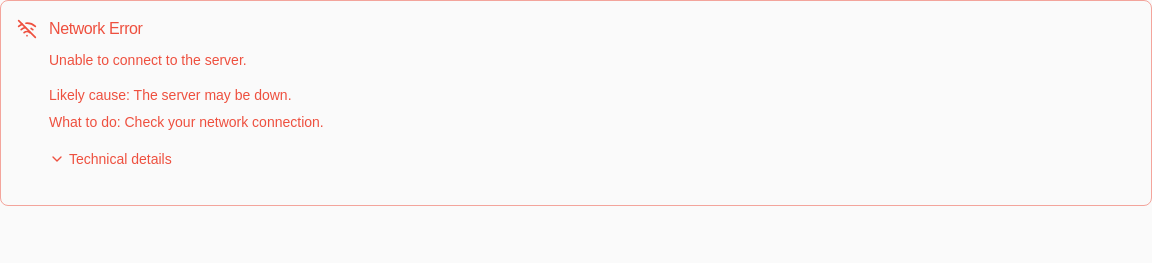
it: ErrorDisplay › expands technical details when clicked
Click the button "Technical details" at (110, 159), box [41,145,180,173]
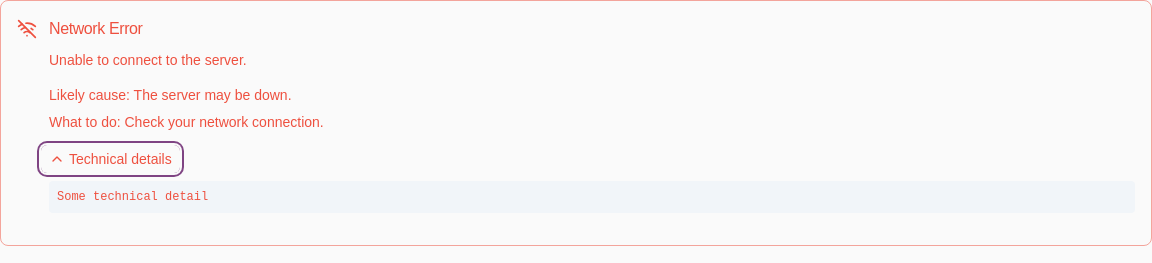
expect the text "Some technical detail" is shown: met, box [49,181,1135,213]
